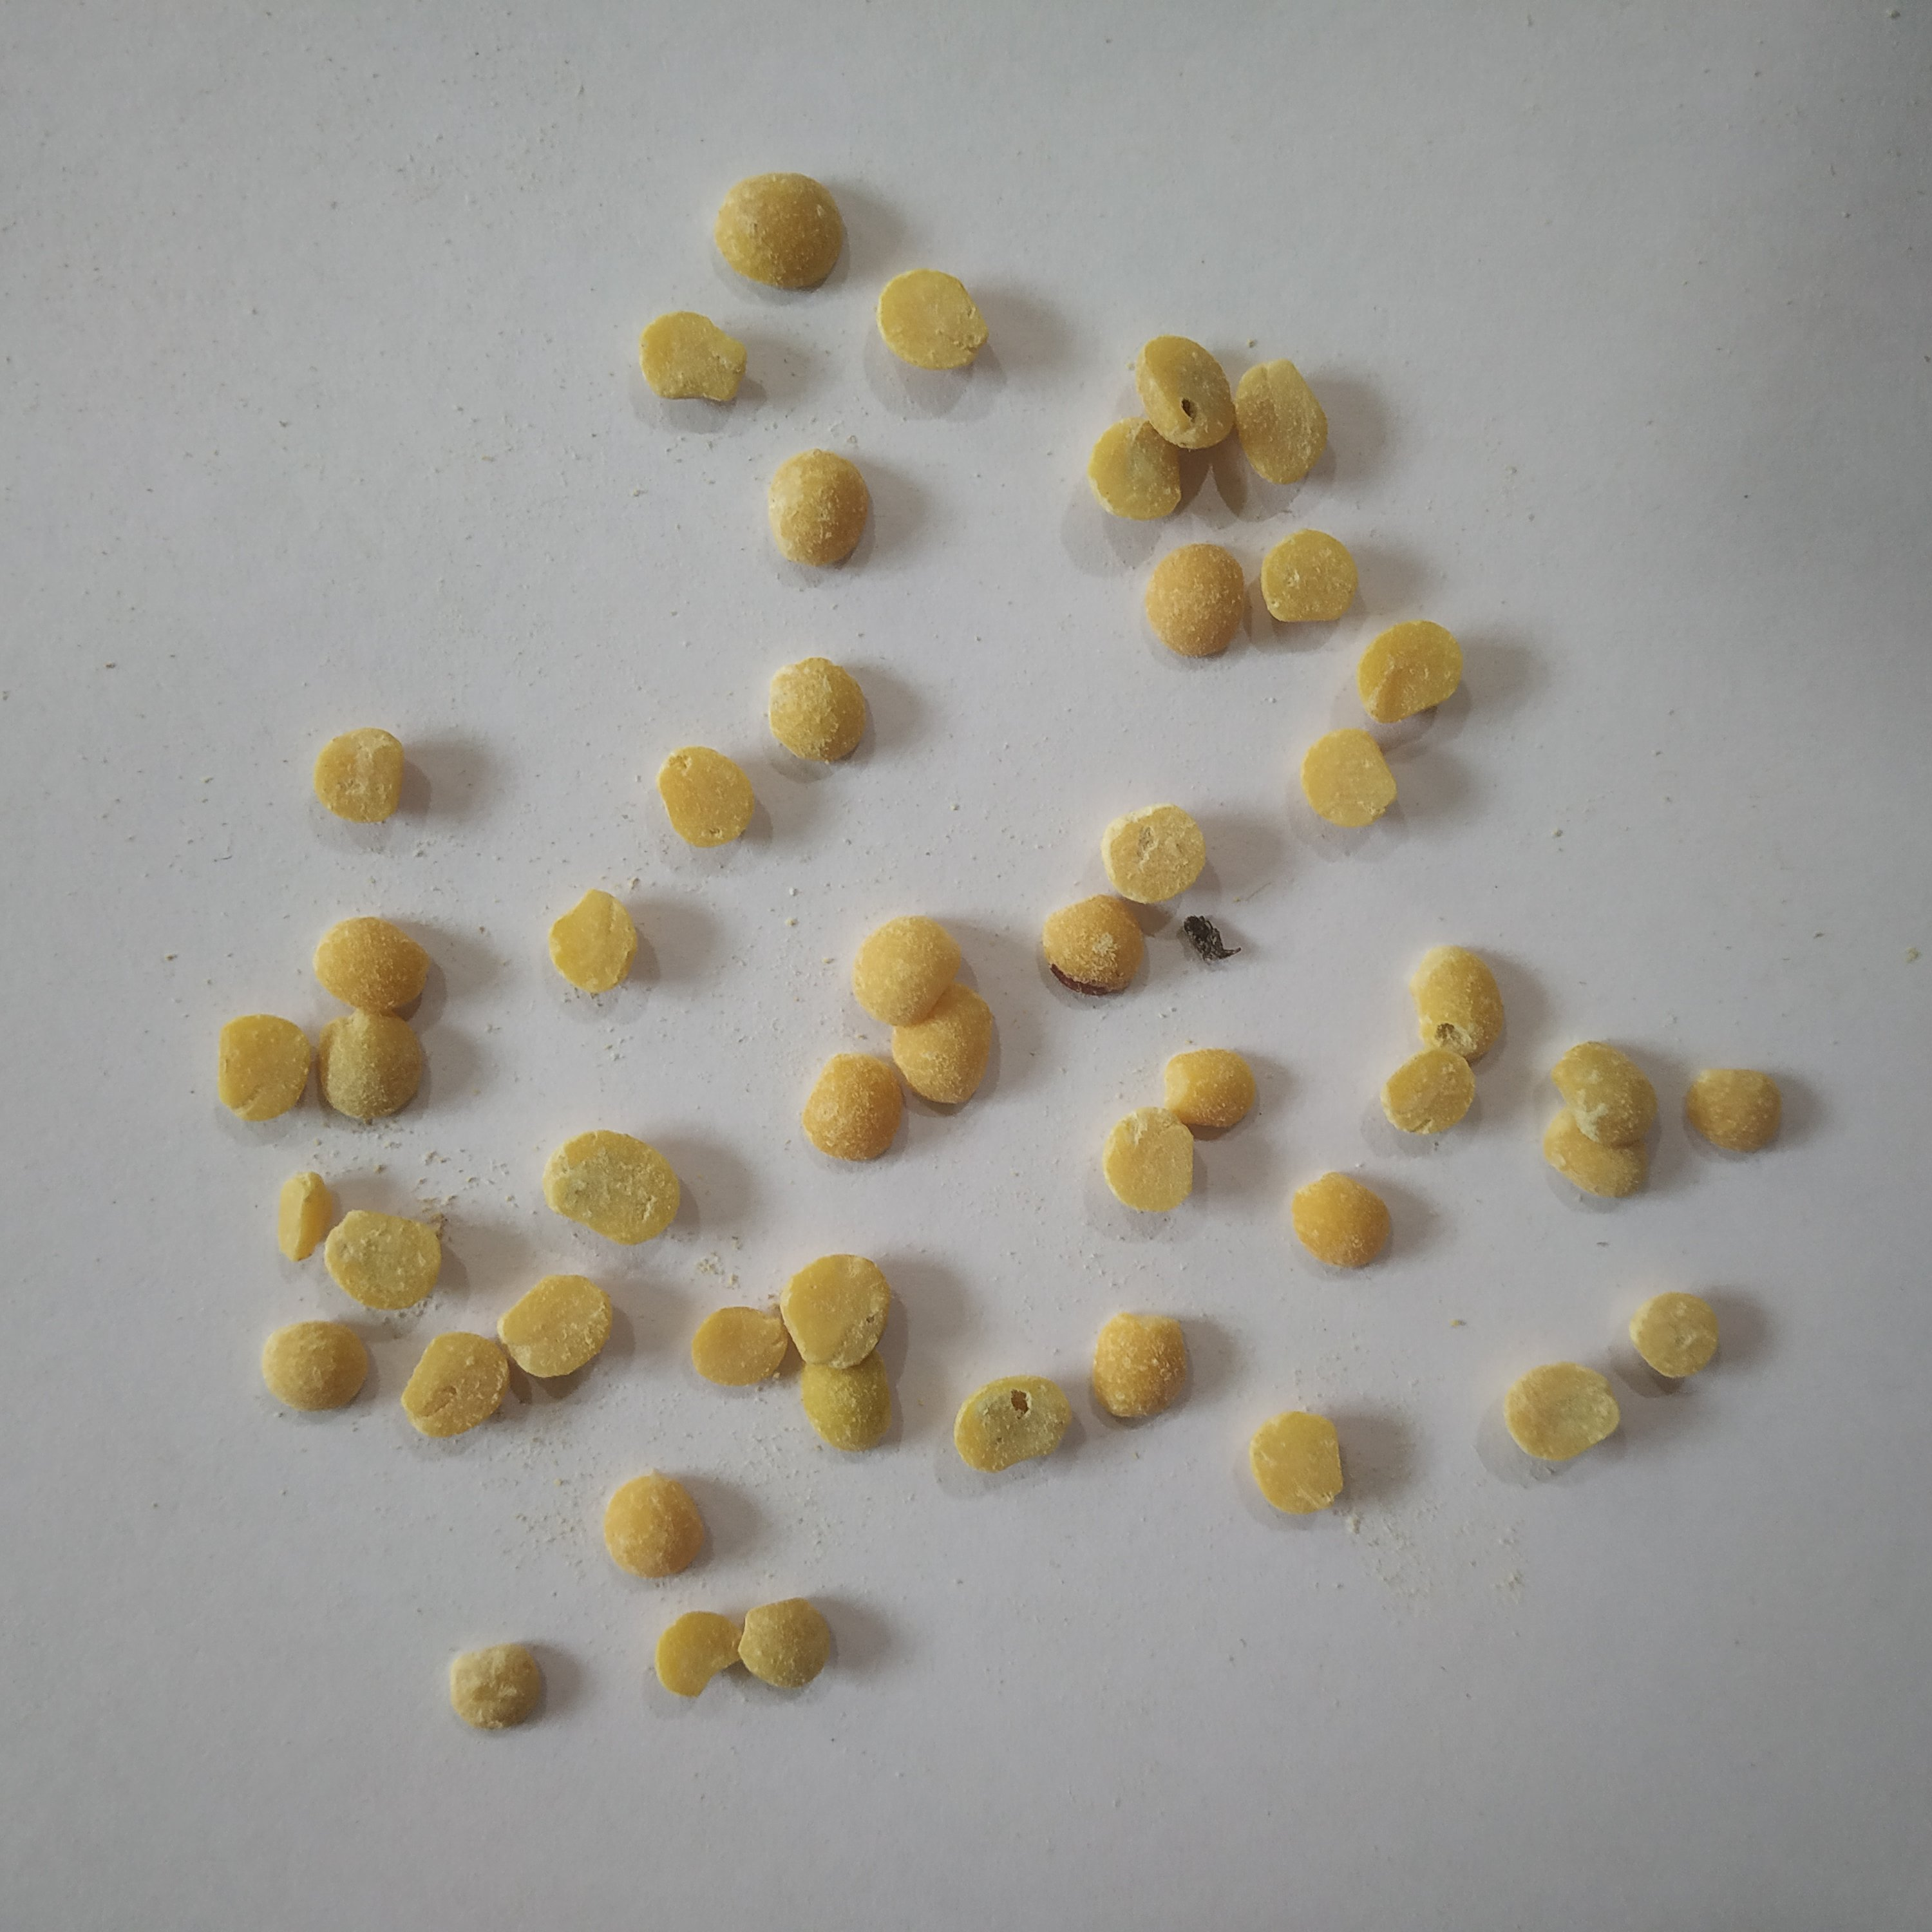Broken Toor Dal: (545, 885, 640, 994), (651, 1606, 747, 1700), (272, 1168, 329, 1265)
Fungal Infected Toor Dal: (1097, 796, 1210, 908), (1039, 893, 1146, 1003)
Good Toor Dal: (541, 1125, 686, 1253), (709, 168, 847, 294), (888, 980, 998, 1115), (777, 1249, 897, 1371), (313, 1001, 430, 1125), (320, 1205, 448, 1318), (844, 913, 966, 1030), (490, 1270, 616, 1382), (763, 448, 870, 570), (1500, 1361, 1626, 1463), (1230, 357, 1330, 485), (396, 1329, 511, 1440), (874, 265, 993, 373), (1141, 540, 1247, 660), (308, 915, 432, 1017), (798, 1049, 908, 1164), (1545, 1039, 1660, 1146), (1353, 617, 1465, 727), (633, 310, 754, 410), (600, 1472, 708, 1583), (1086, 1309, 1192, 1422), (1097, 1104, 1201, 1219), (793, 1343, 895, 1458), (1288, 1168, 1396, 1276), (653, 743, 761, 851), (764, 653, 870, 763), (1244, 1407, 1348, 1518), (212, 1010, 315, 1123), (1295, 724, 1398, 832), (258, 1316, 372, 1414), (310, 725, 412, 832), (1085, 414, 1185, 522), (1539, 1106, 1651, 1203), (1681, 1065, 1790, 1161), (1256, 525, 1359, 626), (734, 1594, 835, 1695), (1626, 1288, 1727, 1384), (1375, 1047, 1479, 1139), (448, 1637, 545, 1734), (686, 1302, 793, 1387), (1162, 1046, 1260, 1136)
Infested Toor Dal: (1405, 939, 1506, 1070), (950, 1371, 1074, 1477), (1132, 333, 1237, 453)
Live Infestation: (1177, 911, 1246, 968)
